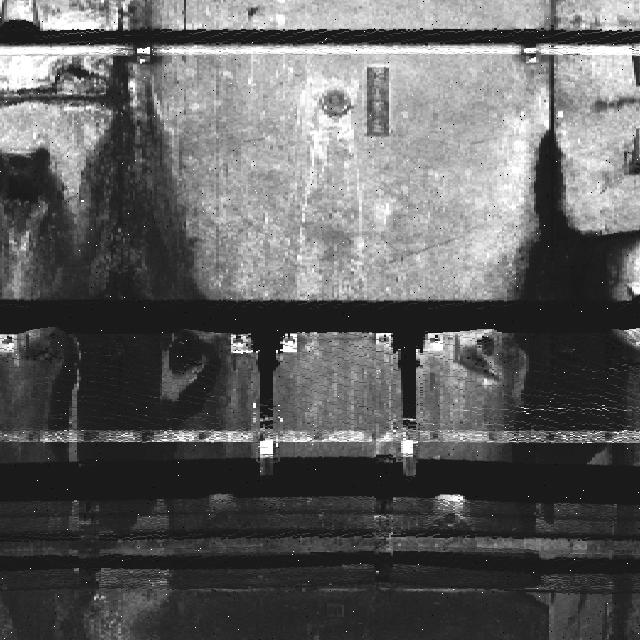leakage: (81, 0, 230, 460), (123, 491, 550, 639), (490, 104, 639, 468), (0, 144, 78, 462), (0, 491, 113, 636), (595, 495, 639, 639)
